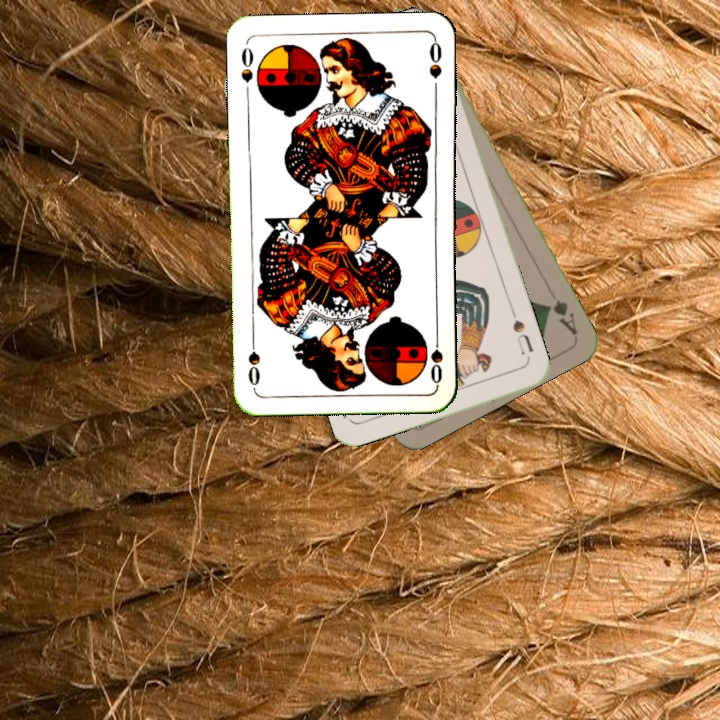GA: (542, 296, 581, 338)
SO: (426, 327, 446, 386), (237, 43, 256, 85)
SU: (507, 306, 536, 364)
